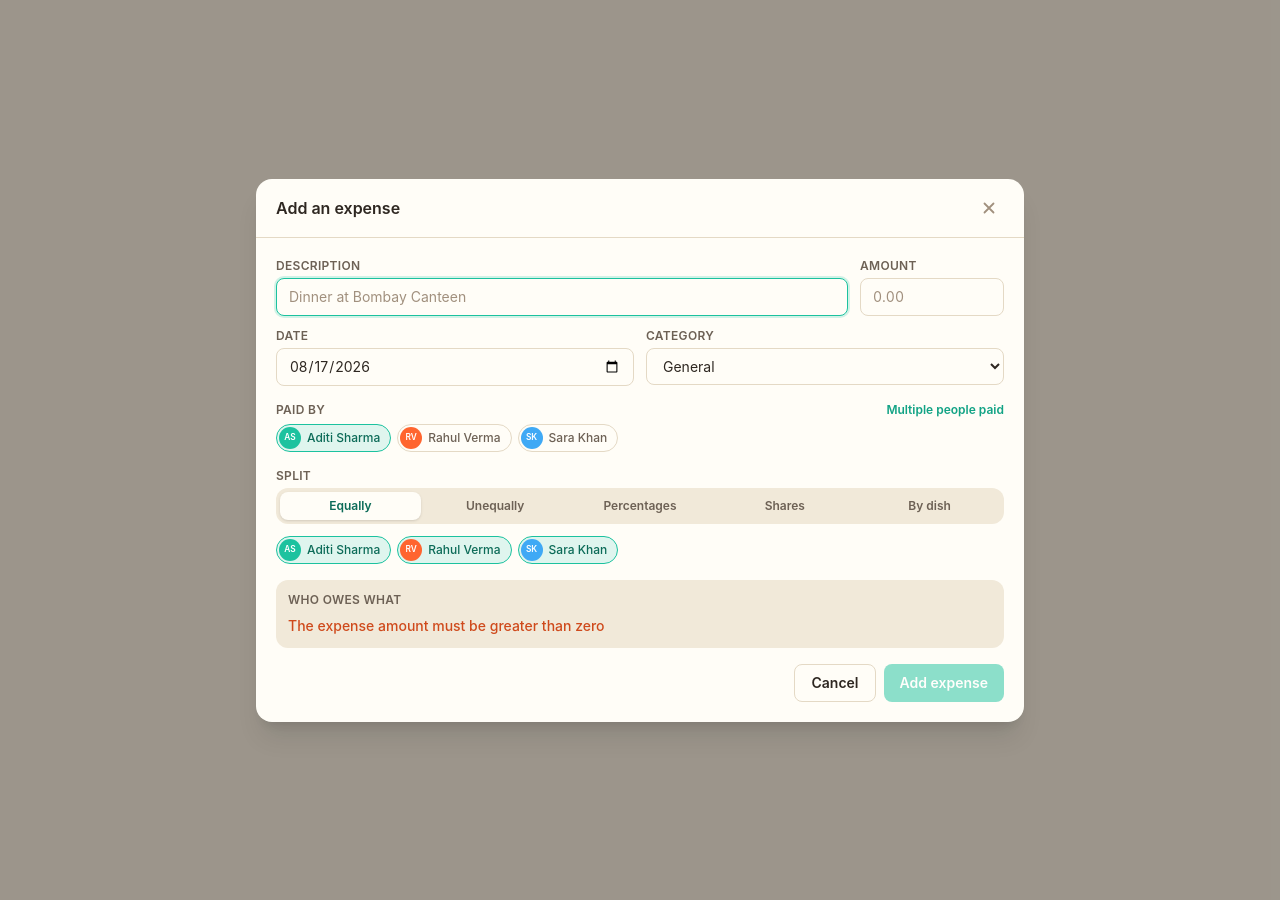
Test: ExpenseModal › refuses to submit while a dish has nobody assigned
Step 1. Type "Lunch" into the field labelled "Description" → (562, 296), box [276,278,848,316]
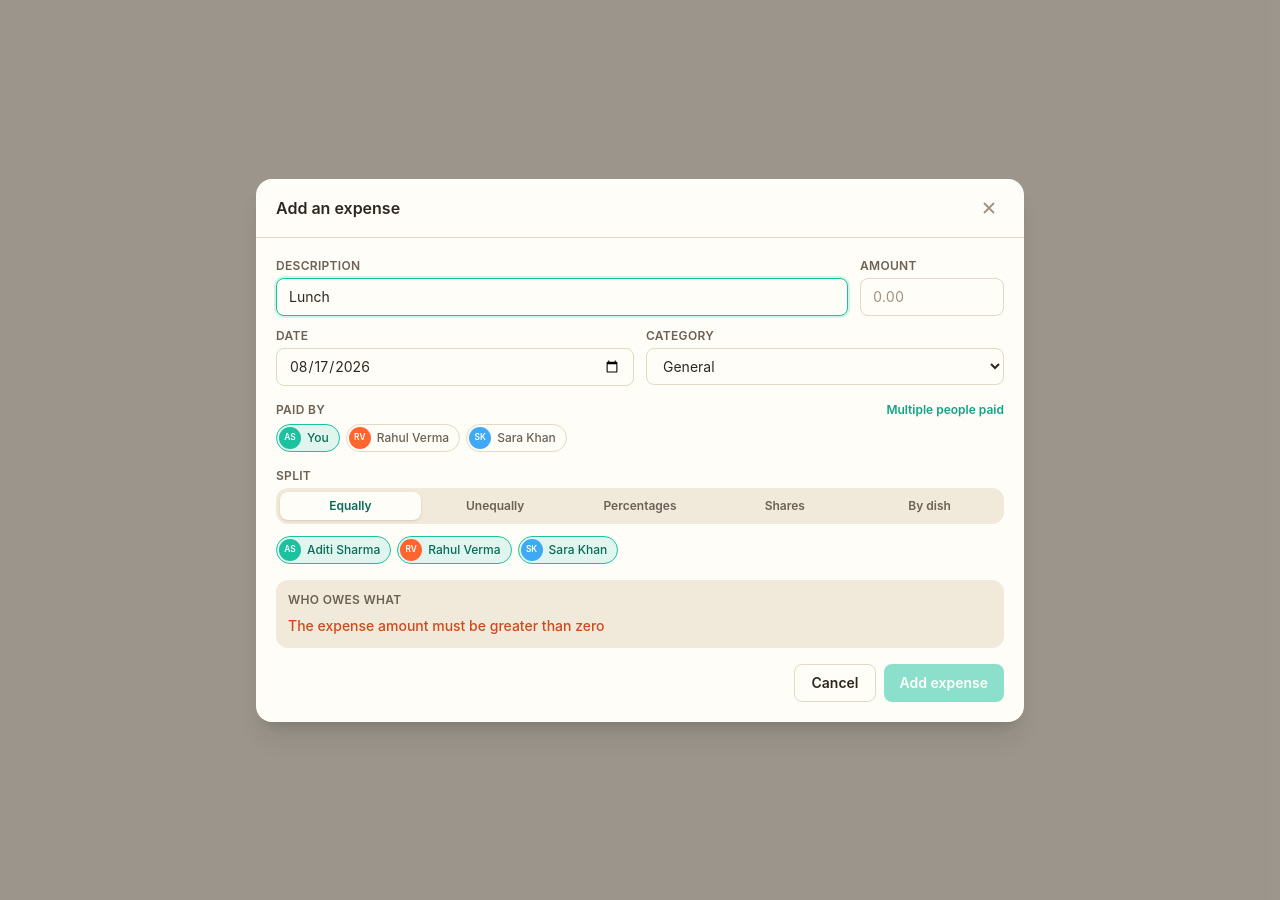
Step 2. Click the button "By dish" → (930, 506), box [859,492,1000,520]
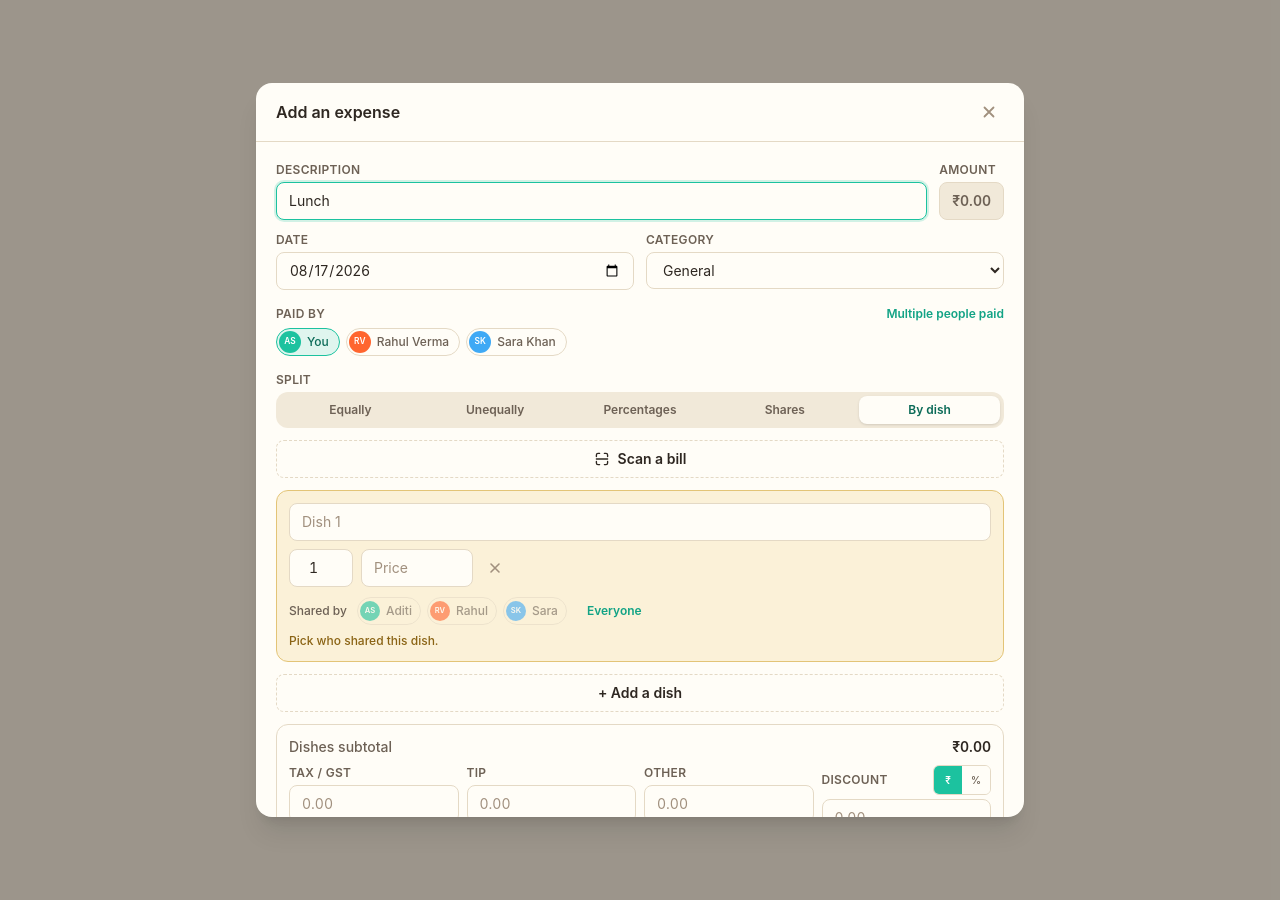
Step 3. Type "500" into the field with placeholder "Price" → (417, 568), box [361,549,473,587]
(page scrolled)
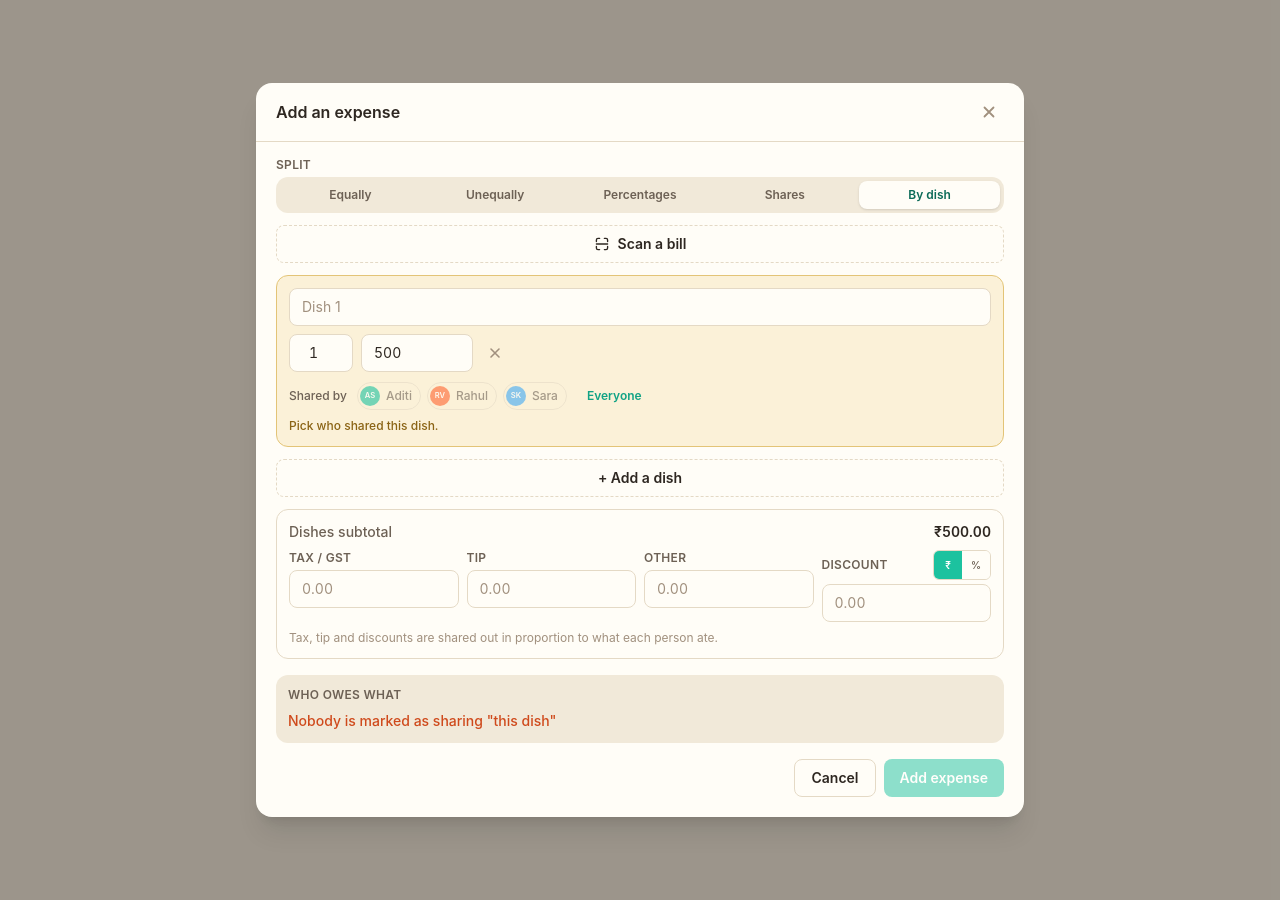
Expected: the text "Pick who shared this dish." is shown, [289,418,438,433]
Expected: the button "Add expense" is disabled, [884,759,1004,797]
